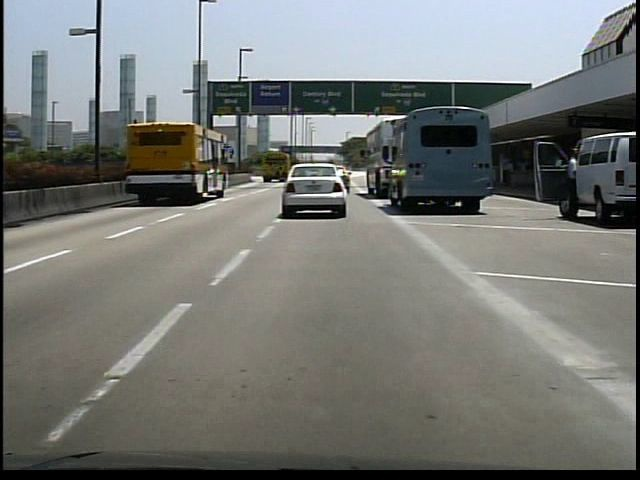person: (563, 139, 581, 224)
